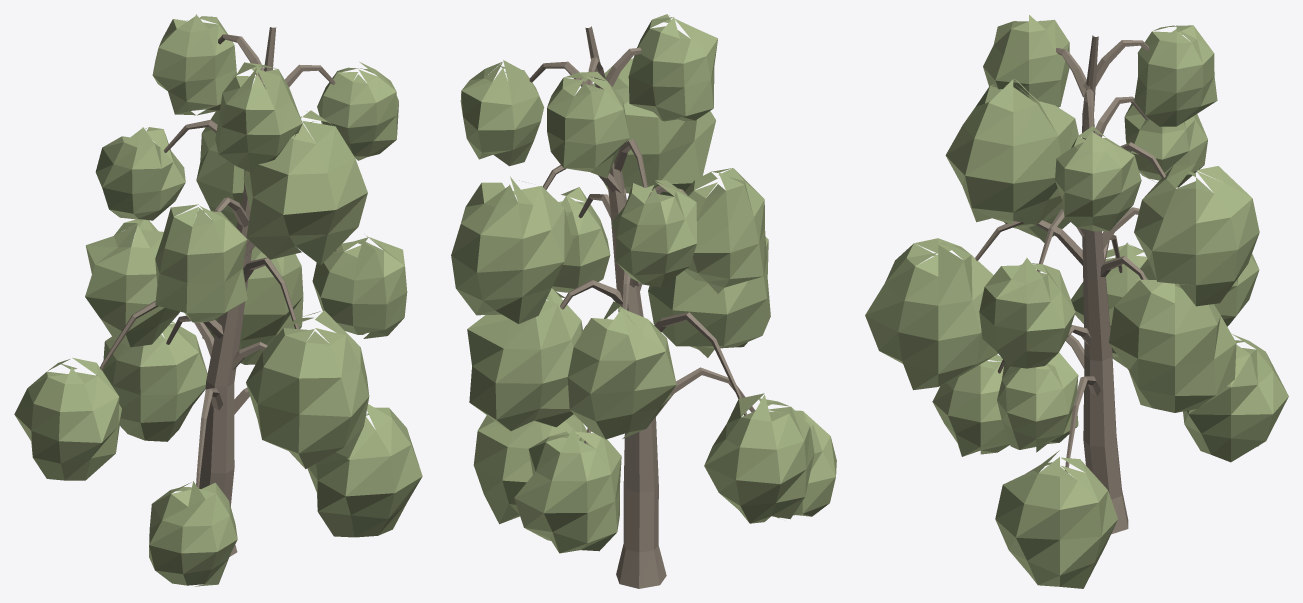
File: mature-white-willow.glb
3 renders of one model, left to right at view 1: azimuth 30°, elevation 25°; view 2: azimuth 150°, elevation 25°; view 3: azimuth 270°, elevation 25°, orthographic. The views are drawn at different scales.
Visible parts, largest first — view 1: white-willow-mature; view 2: white-willow-mature; view 3: white-willow-mature.
Part boxes in pixels (x1,y1,x2,y2): white-willow-mature: (14,14,422,586); white-willow-mature: (451,14,836,588); white-willow-mature: (865,15,1288,588).
Bounding box in the file's own units: 9.19 × 12.9 × 9.59.
